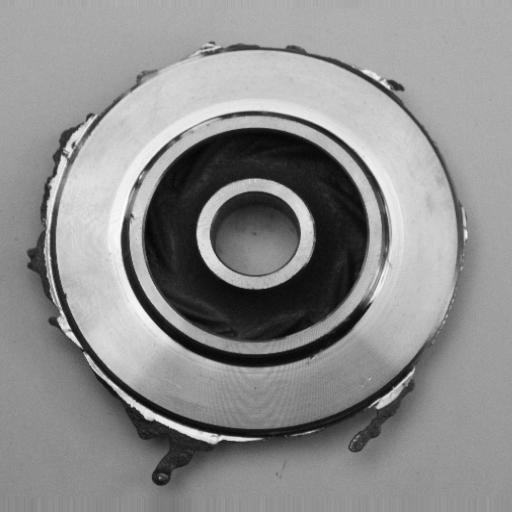casting_with_burr: (27, 36, 471, 489)
scratch: (360, 239, 407, 314), (113, 160, 155, 238)
